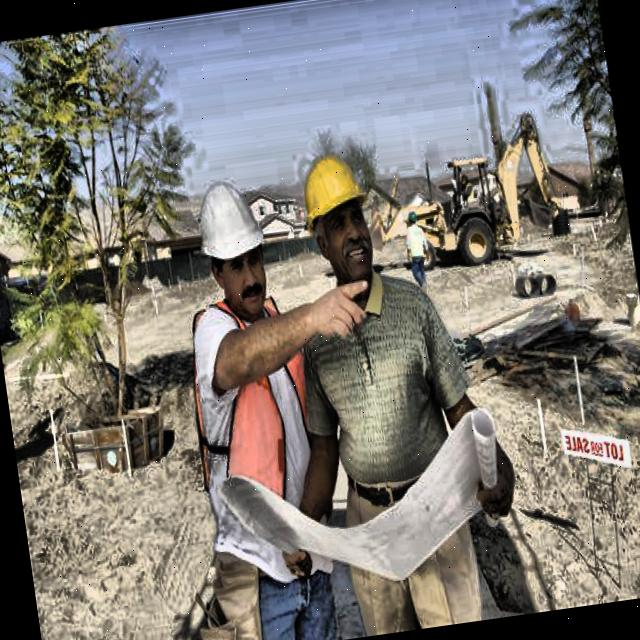helmet: (290, 130, 389, 294), (185, 172, 282, 324), (404, 208, 422, 230)
